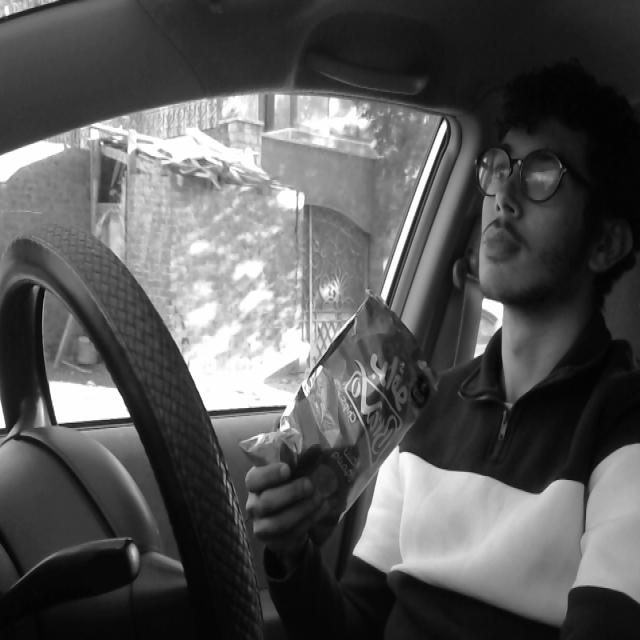eating: (238, 292, 438, 559)
